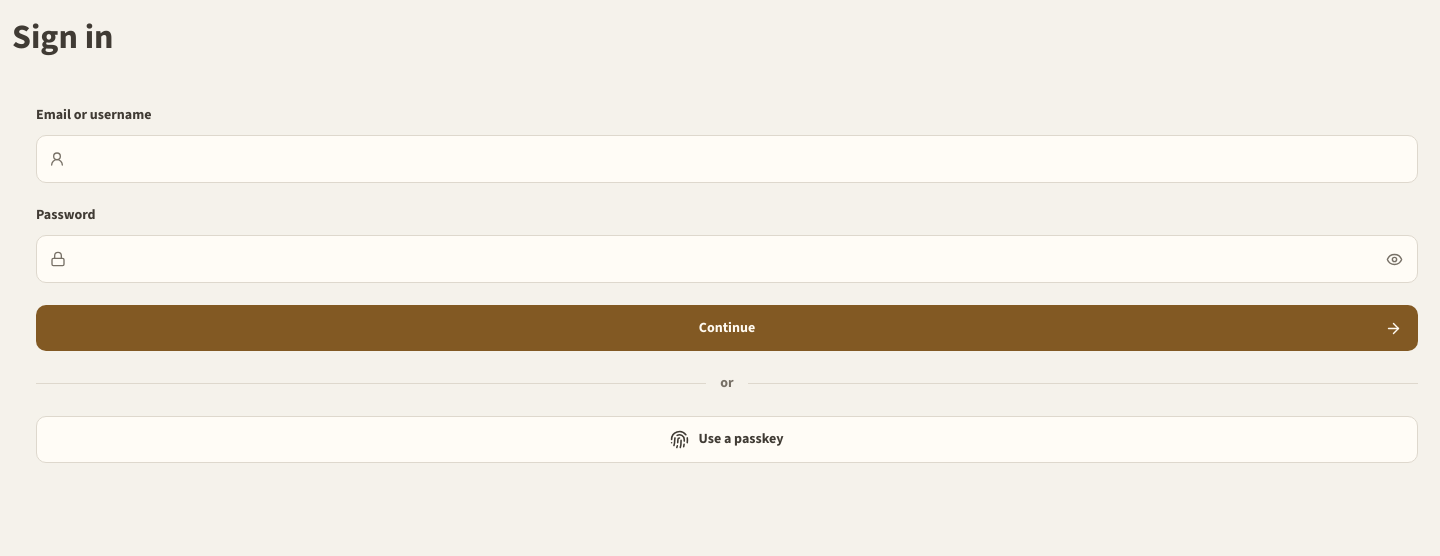
Scenario: minimal authentication forms › surfaces failed sign-in without a false success navigation
The image size is (1440, 556).
Type "owner" into the field labelled "Email or username" at {"x": 727, "y": 159}, box [36,135,1418,183]
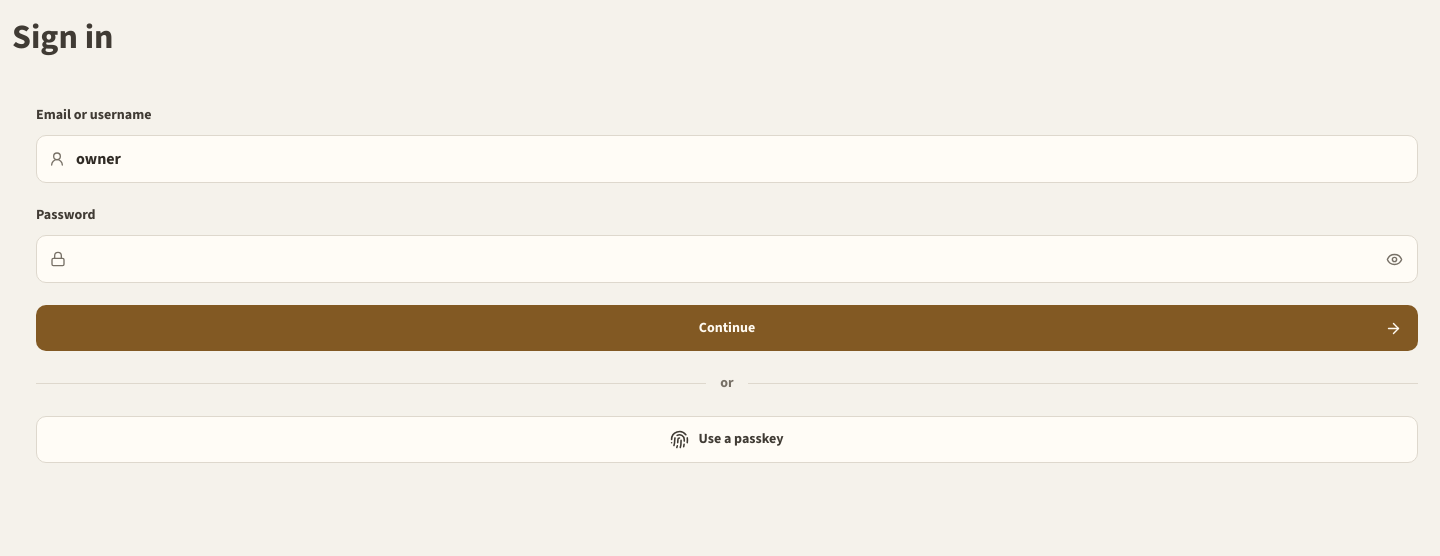
Type "bad" into the password field labelled "Password" at {"x": 719, "y": 259}, box [66,236,1372,282]
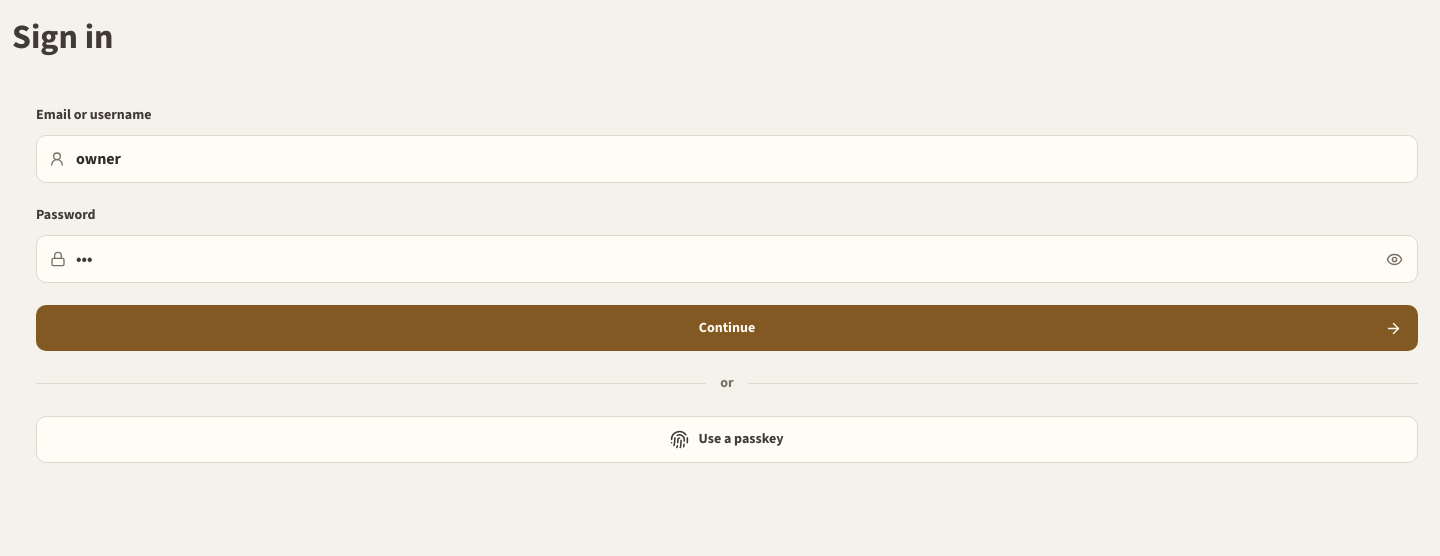
Click the button "Continue" at {"x": 727, "y": 328}, box [36,305,1418,351]
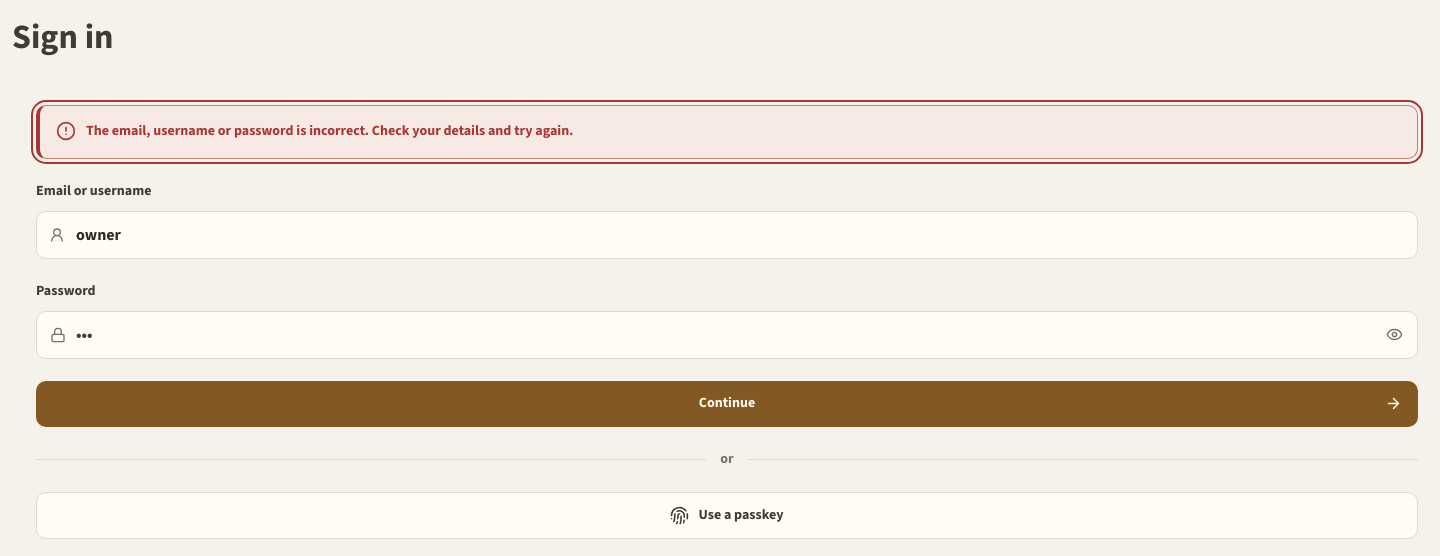
Expected: the message is shown, [36,105,1418,159]
